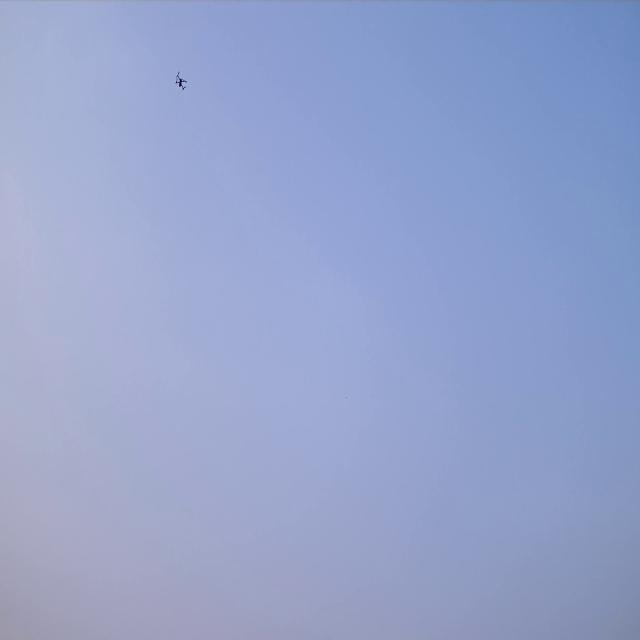UAV: (174, 69, 188, 91)
